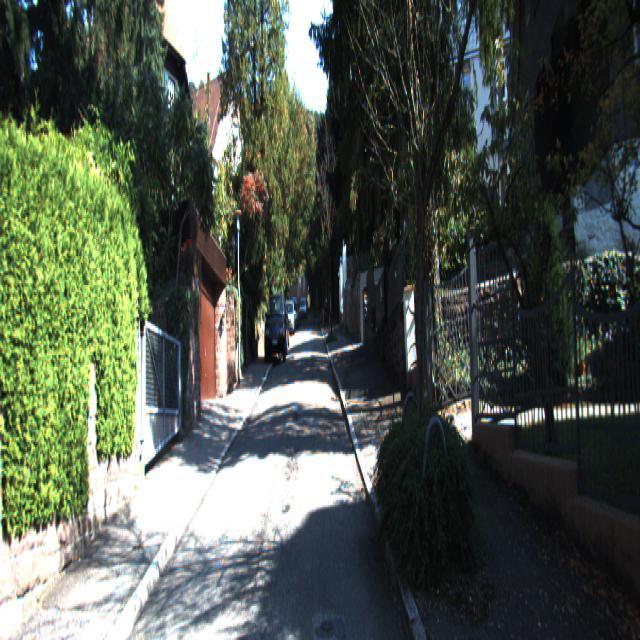Car: (264, 292, 287, 368), (284, 299, 296, 336)
